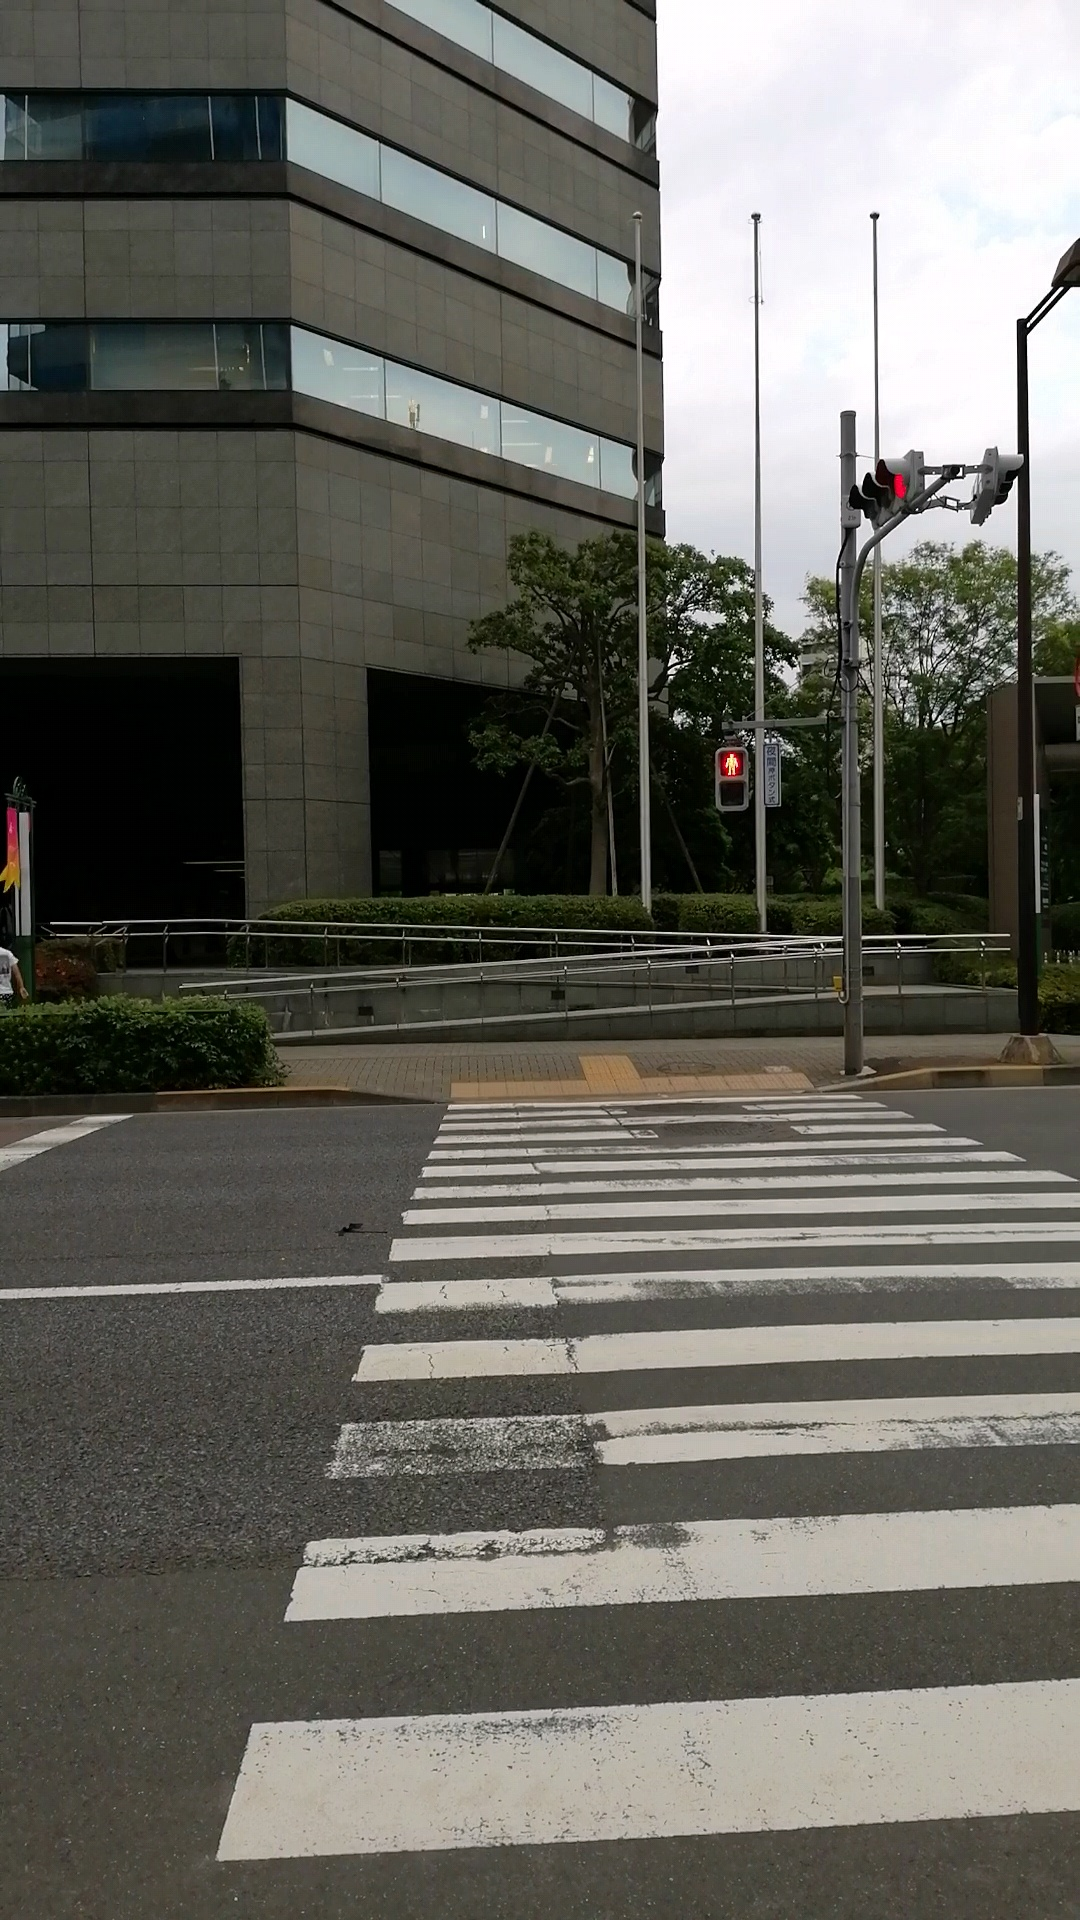red: (713, 746, 748, 814)
